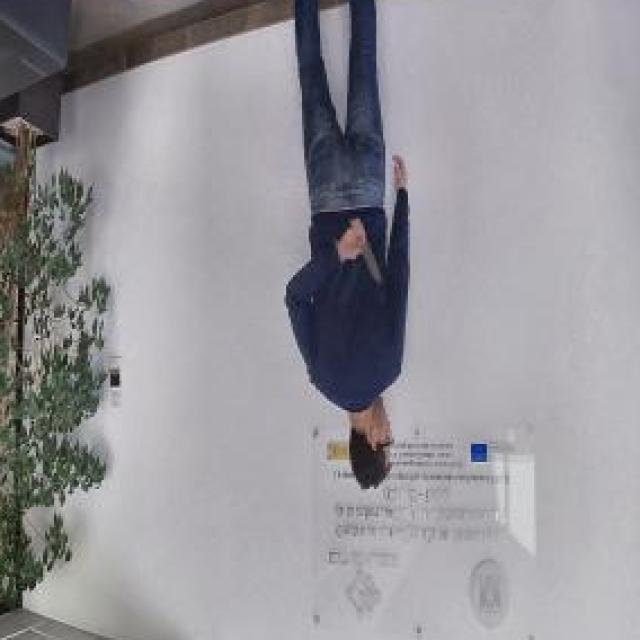knife: (347, 216, 385, 291)
